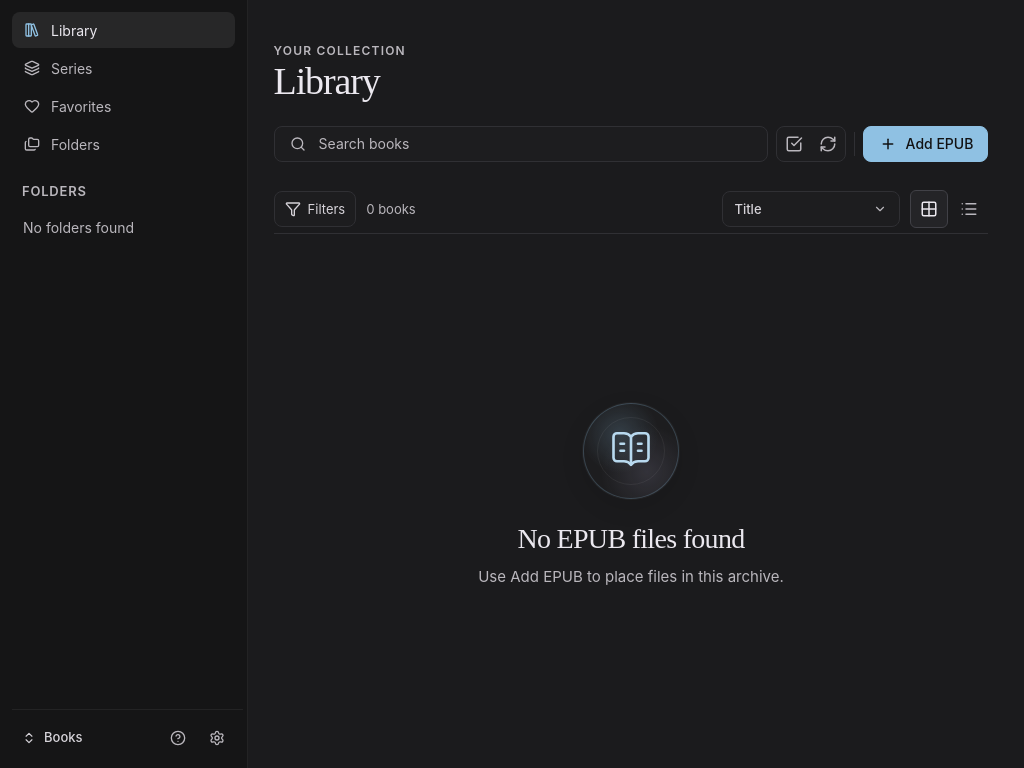
Test case: LibraryPage About window entry › reports native launch failures through Library feedback
The image size is (1024, 768).
(page scrolled)
Click the button named "About Archeion".
click(178, 738)  # box [160,720,196,756]
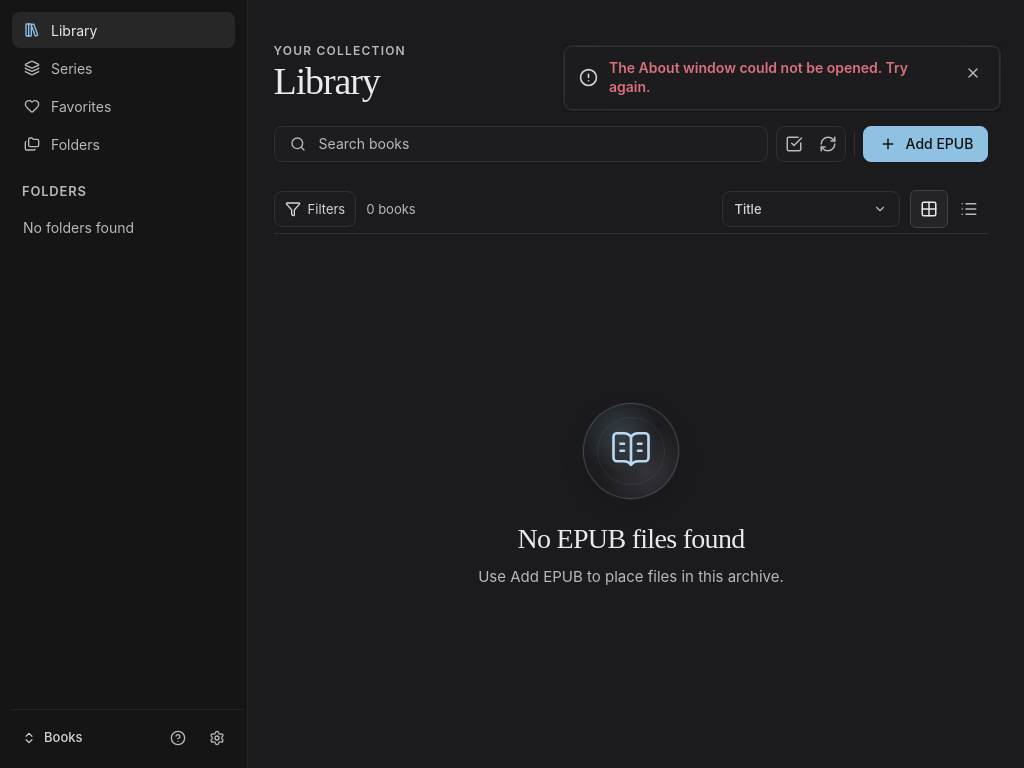
Now the message "The About window could not be opened. Try again." is shown, box [564,46,1000,110]
